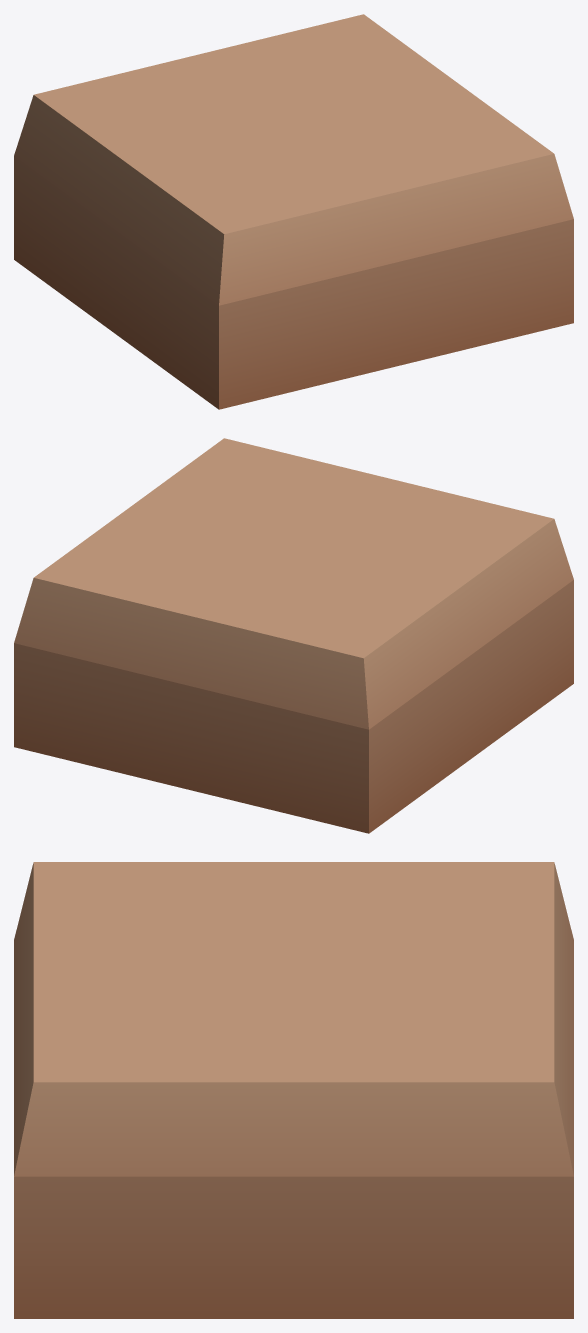
The model's file is tower-square-base-border.glb.
3 renders of one model, top to bottom at view 1: azimuth 30°, elevation 25°; view 2: azimuth 150°, elevation 25°; view 3: azimuth 270°, elevation 25°, orthographic. The views are drawn at different scales.
Parts seen in each view (by area): view 1: tower-square-base-border; view 2: tower-square-base-border; view 3: tower-square-base-border.
Boxes of the visible parts, bbox=[...] form: tower-square-base-border: bbox=[14, 14, 573, 409]; tower-square-base-border: bbox=[14, 438, 573, 833]; tower-square-base-border: bbox=[14, 862, 573, 1318].
Bounding box in the file's own units: 1 × 0.45 × 1.
